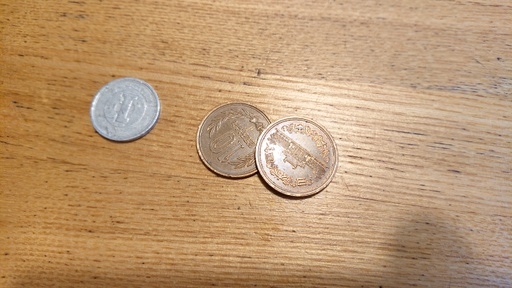10yen: (256, 117, 337, 198), (197, 103, 276, 178)
1yen: (90, 77, 159, 142)
